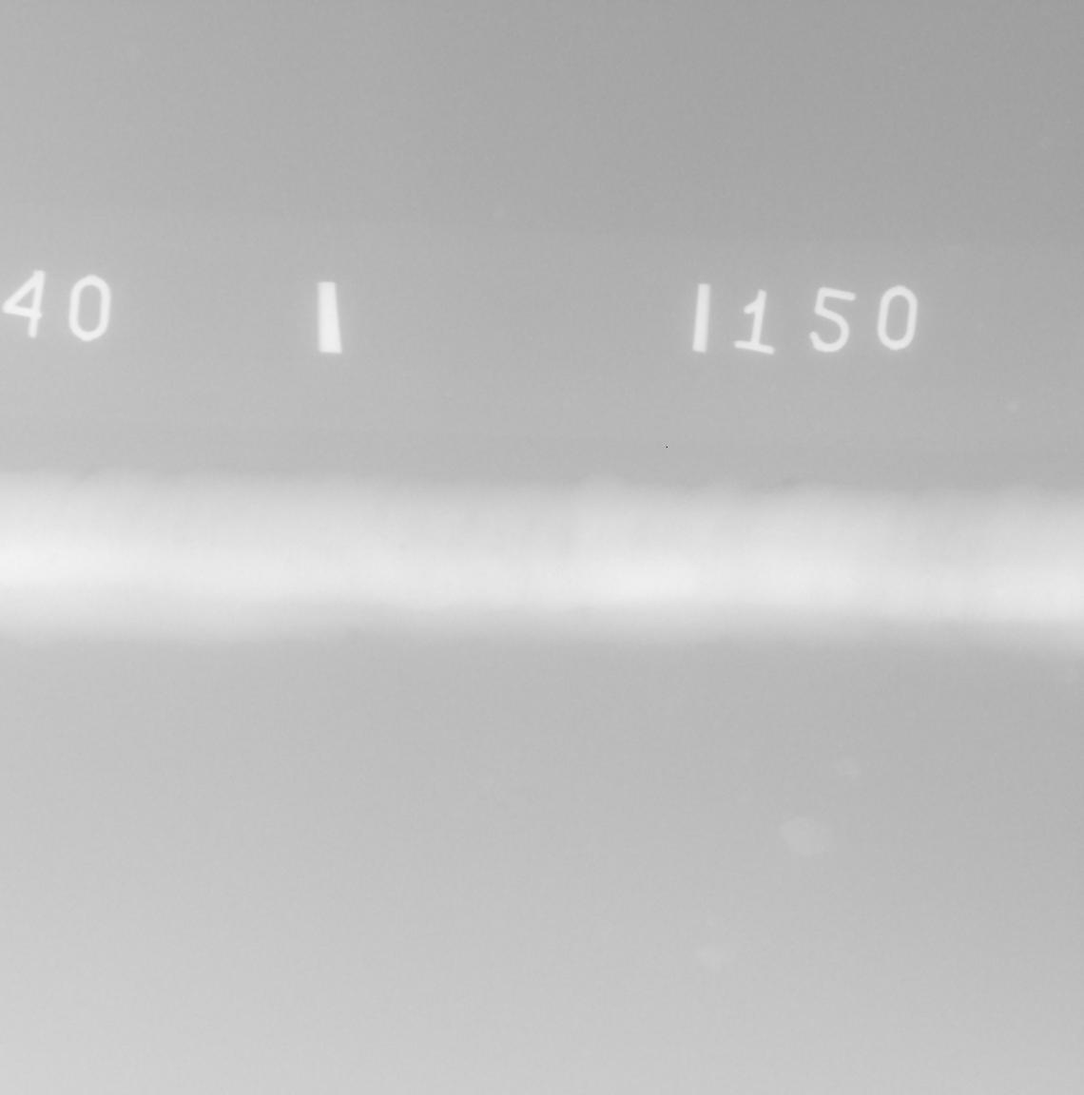Pore/Porosity: (48, 559, 55, 565), (399, 545, 405, 550), (53, 554, 59, 558), (89, 548, 92, 551)
